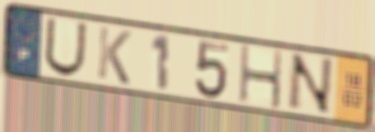1: (150, 34, 171, 94)
5: (192, 38, 232, 100)
H: (238, 43, 285, 112)
K: (95, 24, 134, 87)
N: (284, 51, 336, 117)
U: (42, 16, 90, 78)
